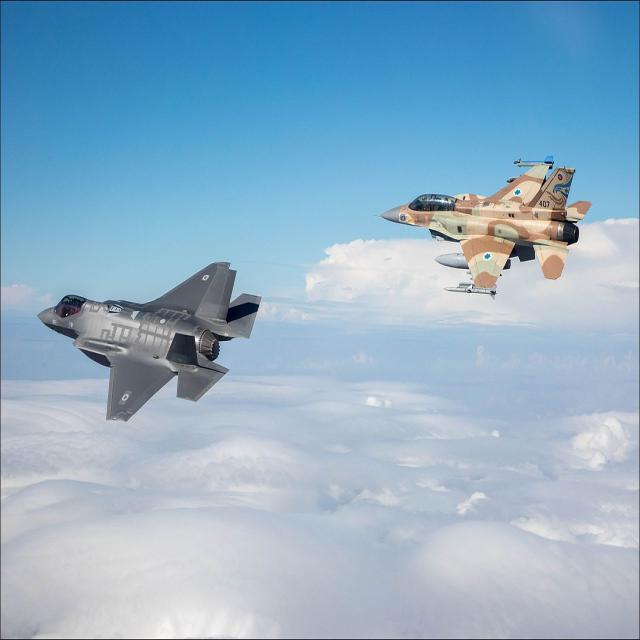MIL_Plane: (35, 260, 262, 422), (373, 156, 594, 300)
